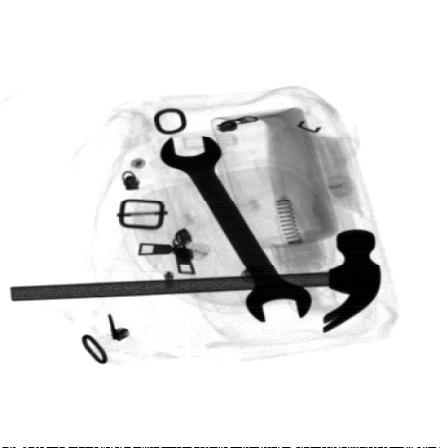Hammer: (9, 228, 383, 338)
Wrench: (158, 134, 314, 323)
